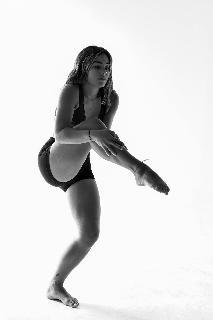person - v3 P: (38, 46, 169, 307)
